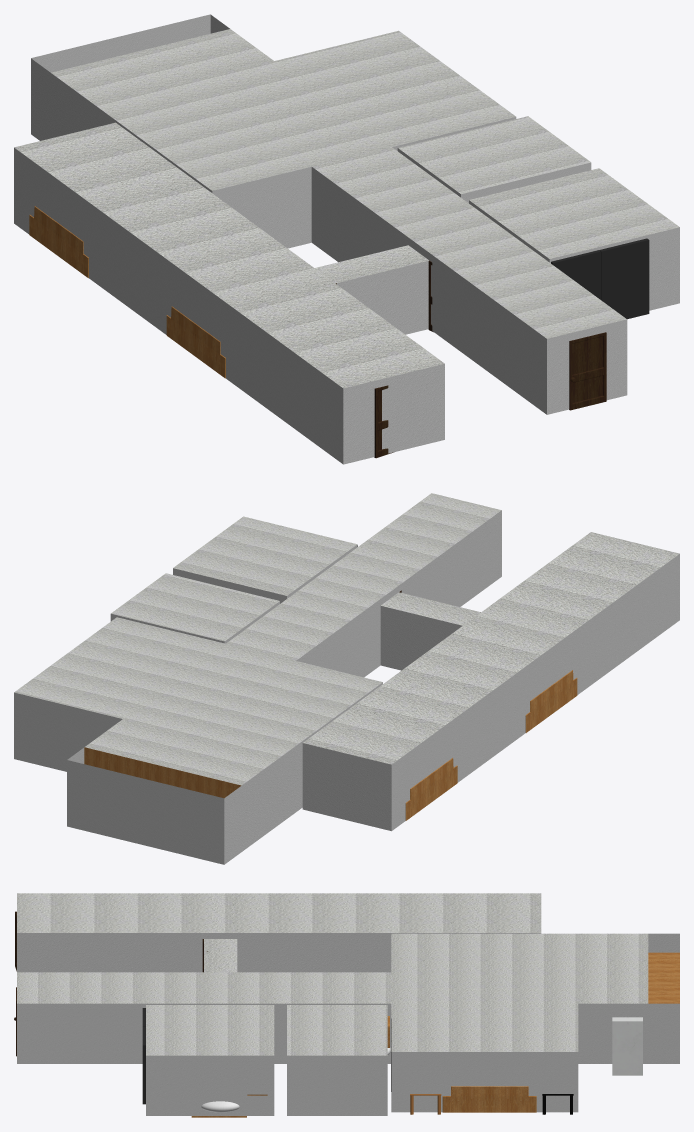
The model's file is map.obj.
3 renders of one model, top to bottom at view 1: azimuth 30°, elevation 25°; view 2: azimuth 150°, elevation 25°; view 3: azimuth 270°, elevation 25°, orthographic. The views are drawn at different scales.
Visible parts, largest first — view 1: Plane, MirrorDoor, Cube.012, Couch.002, Couch.001, Cube.011; view 2: Plane, Couch.001, Couch.002; view 3: Plane, Couch, Cube.005, MirrorDoor, Sphere.001.
Boxes of the visible parts, <box> form: Plane: <box>14,14,679,464</box>; MirrorDoor: <box>551,238,649,319</box>; Cube.012: <box>569,332,606,410</box>; Couch.002: <box>166,306,225,378</box>; Couch.001: <box>29,206,88,277</box>; Cube.011: <box>374,385,393,458</box>; Plane: <box>14,493,679,864</box>; Couch.001: <box>405,758,457,820</box>; Couch.002: <box>525,670,577,732</box>; Plane: <box>17,893,679,1115</box>; Couch: <box>442,1086,536,1112</box>; Cube.005: <box>612,1017,642,1075</box>; MirrorDoor: <box>142,1008,145,1104</box>; Sphere.001: <box>201,1101,239,1112</box>.
Size of the model in its own units: 17.95 by 3.45 by 30.55.
